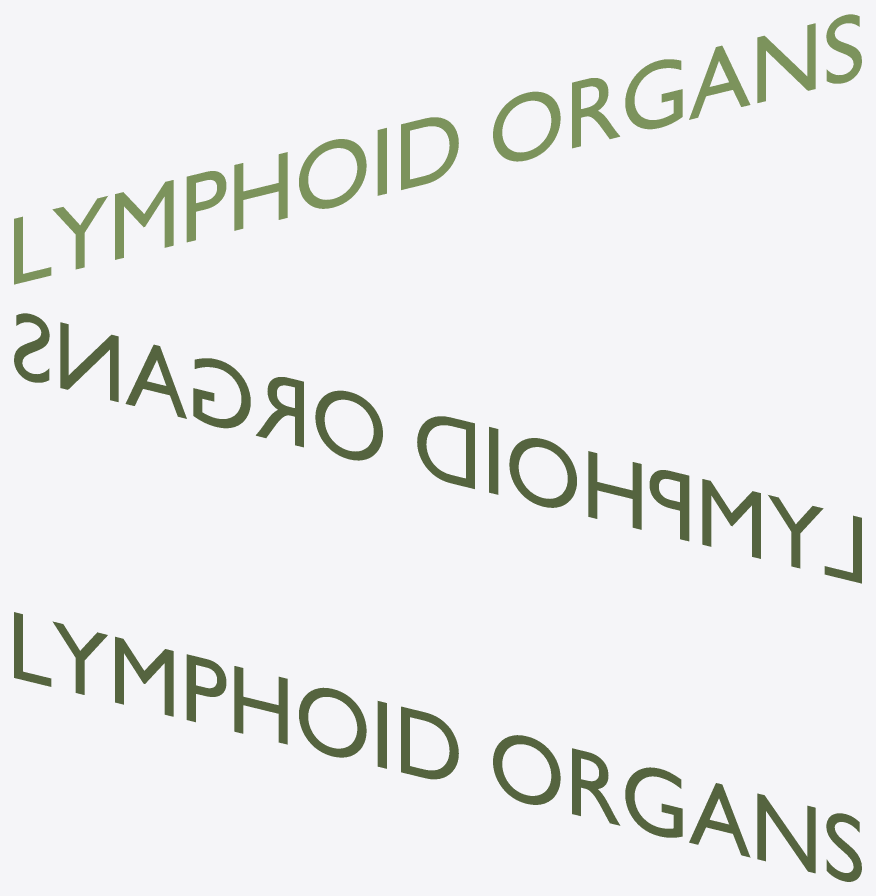
File: lymphoid-organs-g.glb
3 renders of one model, top to bottom at view 1: azimuth 30°, elevation 25°; view 2: azimuth 150°, elevation 25°; view 3: azimuth 330°, elevation 25°, orthographic.
Visible parts, largest first — view 1: Lymphoid organs.g; view 2: Lymphoid organs.g; view 3: Lymphoid organs.g.
Part boxes in pixels (x1,y1,x2,y2): Lymphoid organs.g: (14,14,861,284); Lymphoid organs.g: (14,313,861,583); Lymphoid organs.g: (14,612,861,881).
Bounding box in the file's own units: 0.4591 × 0.035 × 0.
